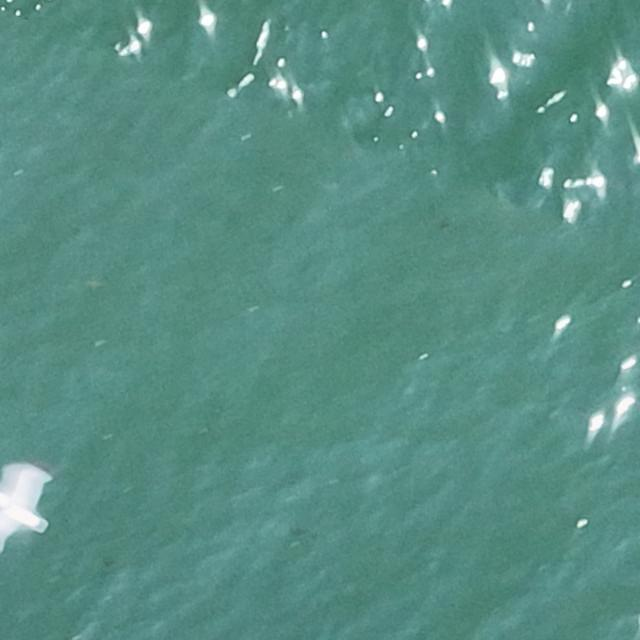umineko: (0, 469, 49, 540)
